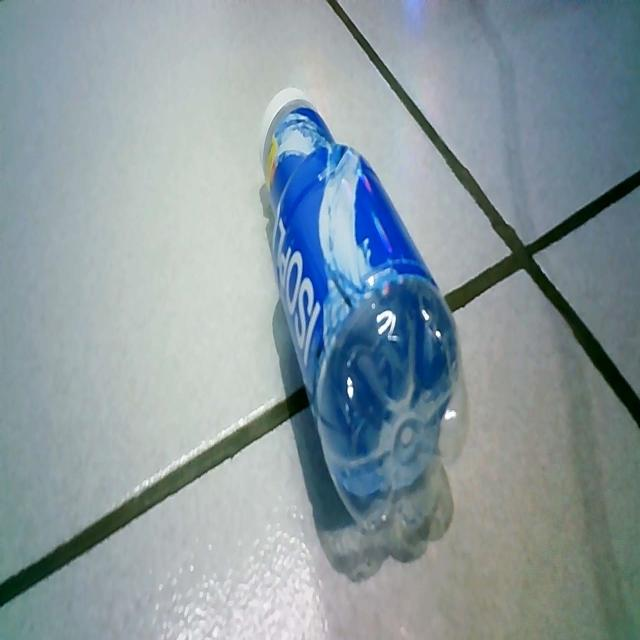botol: (254, 74, 473, 553)
